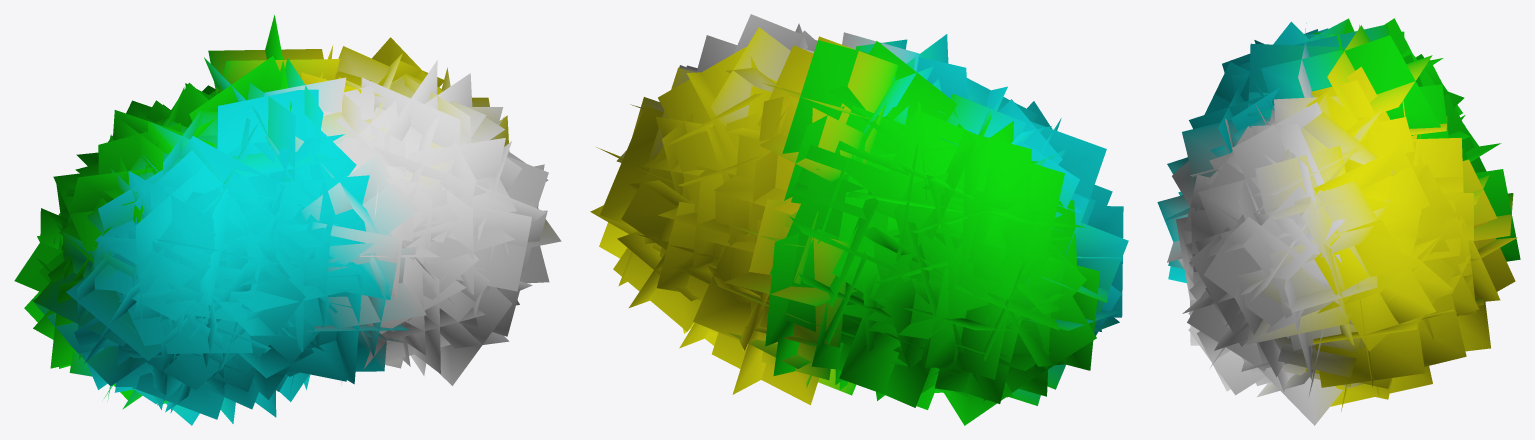
The model's file is Bush03.fbx.
3 views of the same model, side by side, from view 1: azimuth 30°, elevation 25°; view 2: azimuth 150°, elevation 25°; view 3: azimuth 270°, elevation 25° (orthographic). The views are drawn at different scales.
Visible parts, largest first — view 1: geo1; view 2: geo1; view 3: geo1.
Boxes of the visible parts, left/top/right/bottom form: geo1: left=14, top=15, right=561, bottom=425; geo1: left=590, top=14, right=1128, bottom=425; geo1: left=1157, top=18, right=1520, bottom=425.
Size of the model in its own units: 531 by 366 by 363.
